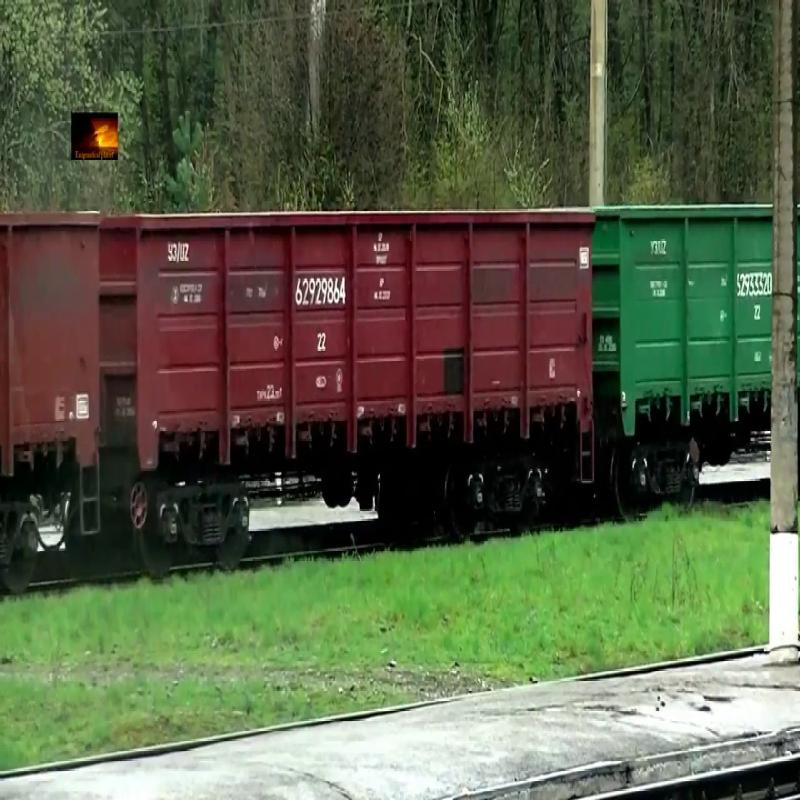train: (101, 208, 597, 471), (593, 205, 771, 431), (1, 211, 102, 481)
